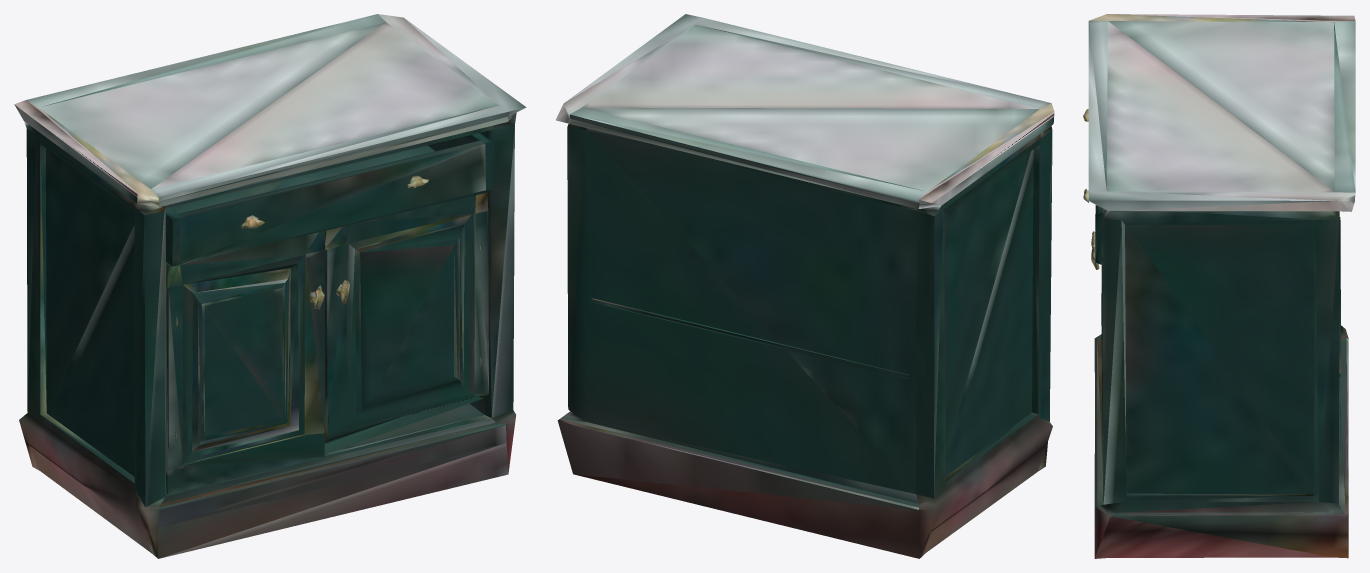
Rendered from kitchen-counter.lod2.glb.
3 renders of one model, left to right at view 1: azimuth 30°, elevation 25°; view 2: azimuth 150°, elevation 25°; view 3: azimuth 270°, elevation 25°, orthographic.
Size of the model in its own units: 1 by 0.92 by 0.6189.
Materials: 1 (1 with a texture image).
